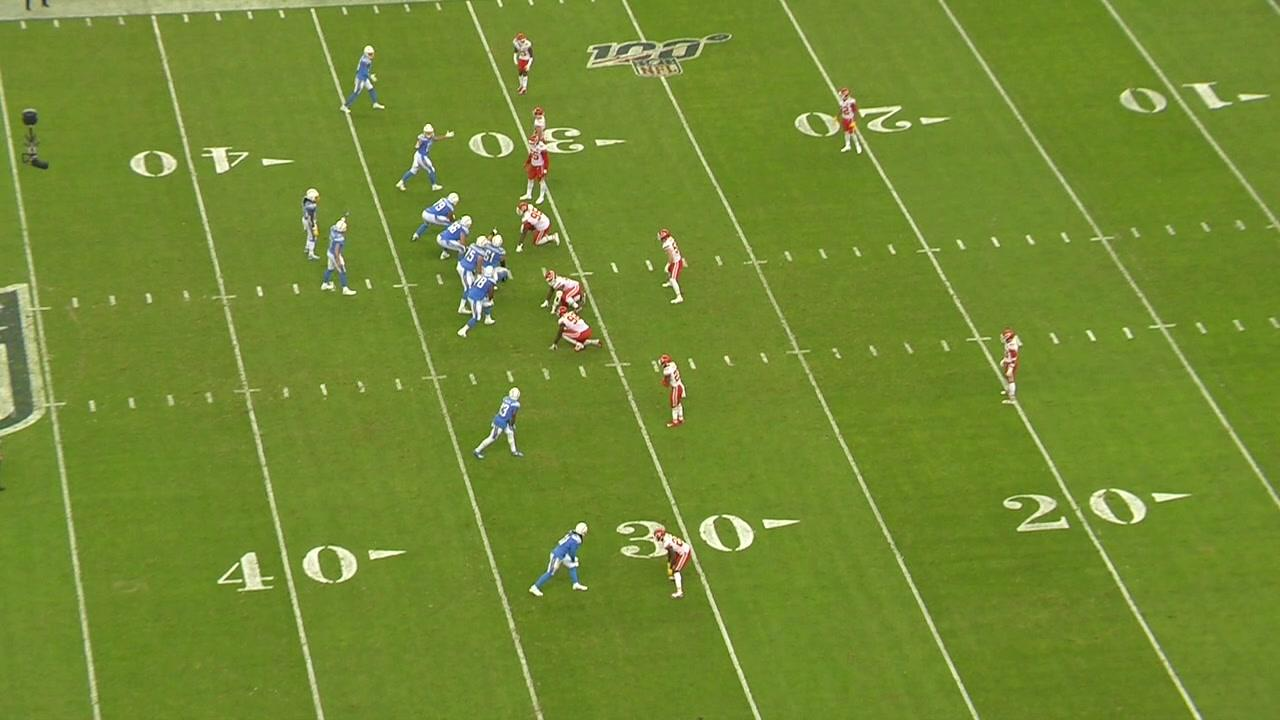player: (527, 514, 596, 599), (465, 381, 527, 463), (393, 124, 461, 194), (315, 208, 359, 297), (338, 39, 387, 115), (652, 524, 693, 604), (457, 265, 499, 340), (413, 188, 467, 241), (547, 307, 605, 354), (458, 233, 491, 313), (655, 352, 688, 432), (512, 203, 565, 251), (657, 227, 689, 305), (833, 87, 868, 157), (539, 272, 591, 319), (996, 327, 1023, 408), (519, 135, 549, 204), (299, 184, 323, 269), (435, 213, 475, 264), (510, 33, 534, 99), (484, 234, 511, 278), (528, 106, 547, 142)
